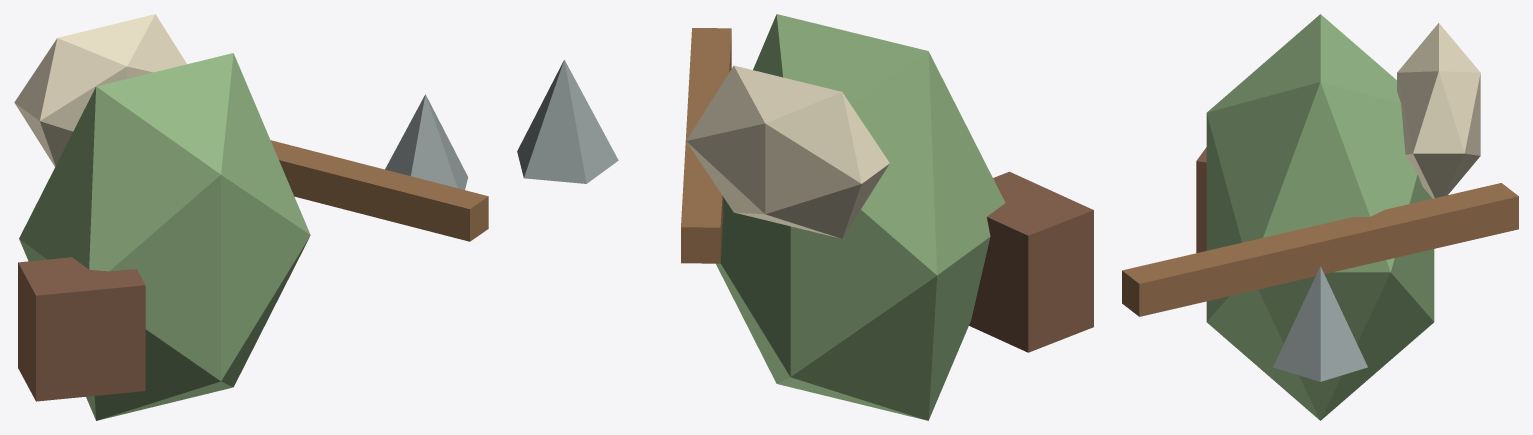
The model's file is enemy_scout.glb.
3 renders of one model, left to right at view 1: azimuth 30°, elevation 25°; view 2: azimuth 150°, elevation 25°; view 3: azimuth 270°, elevation 25°, orthographic. The views are drawn at different scales.
Parts seen in each view (by area): view 1: body, satchel, mask, spear, spear_tip; view 2: body, mask, satchel, spear, spear_tip; view 3: body, spear, mask, spear_tip, satchel.
Part boxes in pixels (<box>): body: <box>19,53,310,420</box>; satchel: <box>18,257,145,401</box>; mask: <box>14,14,186,166</box>; spear: <box>270,140,488,241</box>; spear_tip: <box>385,94,468,189</box>; body: <box>716,14,1005,420</box>; mask: <box>686,65,889,238</box>; satchel: <box>969,171,1093,352</box>; spear: <box>681,28,731,263</box>; spear_tip: <box>517,60,618,183</box>; body: <box>1206,14,1434,420</box>; spear: <box>1122,183,1518,316</box>; mask: <box>1397,23,1480,198</box>; spear_tip: <box>1273,266,1367,381</box>; satchel: <box>1196,147,1206,253</box>.
Bounding box in the file's own units: 1.23 × 0.8242 × 0.8721.
